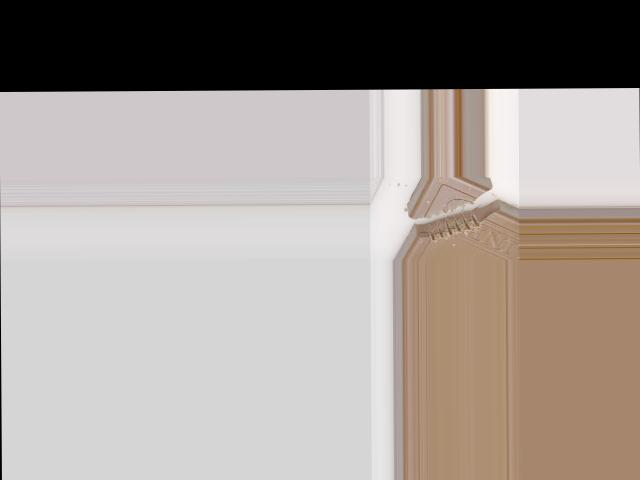chocolate: (391, 175, 518, 259)
